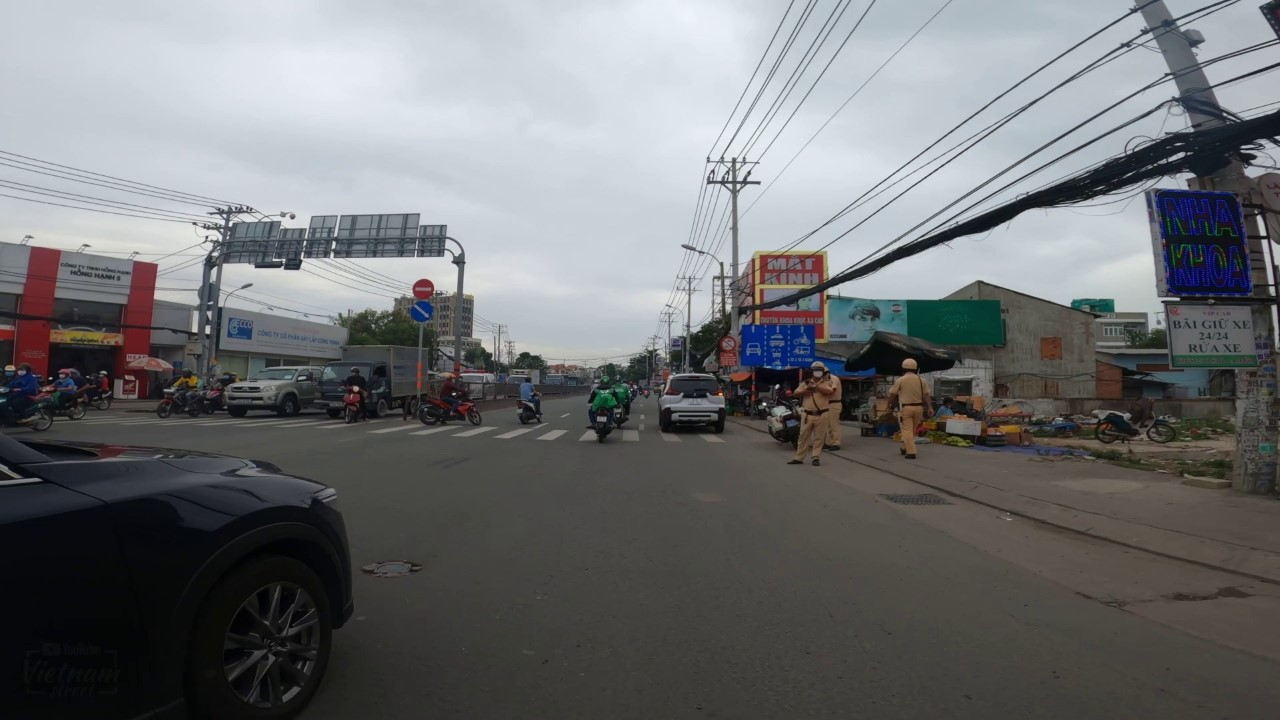cam_nguoc_chieu: (412, 278, 434, 300)
huong_phai_di_vong: (409, 301, 433, 322)
